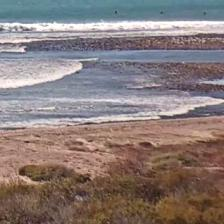surfer: (203, 11, 208, 16), (159, 11, 164, 15), (114, 10, 119, 14)
